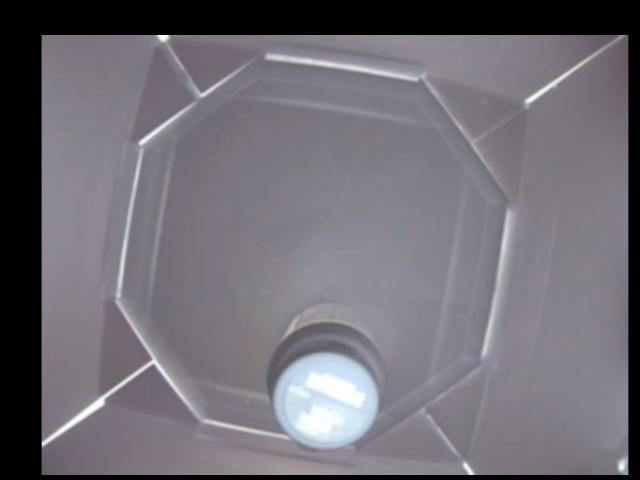Bottle: (265, 303, 382, 451)
